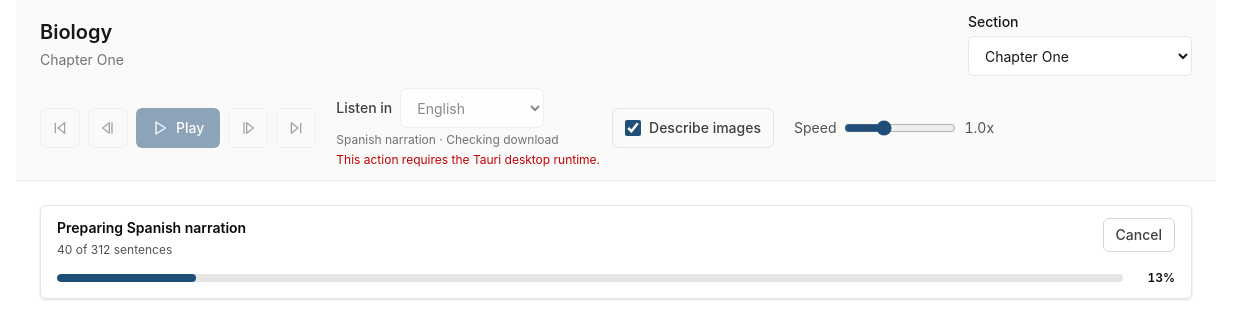
Test: translation status › shows readable translation progress and a stopping state
Expected: the text "Preparing Spanish narration" is shown, [57,218,246,238]
Expected: the text "40 of 312 sentences" is shown, [57,242,172,257]
Click the button "Cancel" at (1139, 235), box [1102,218,1175,252]
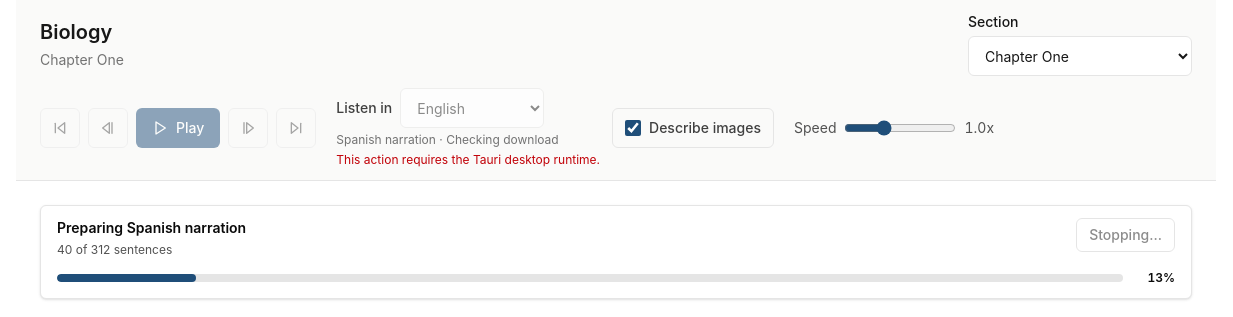
Now the button "Stopping…" is disabled, box [1076,218,1175,252]
